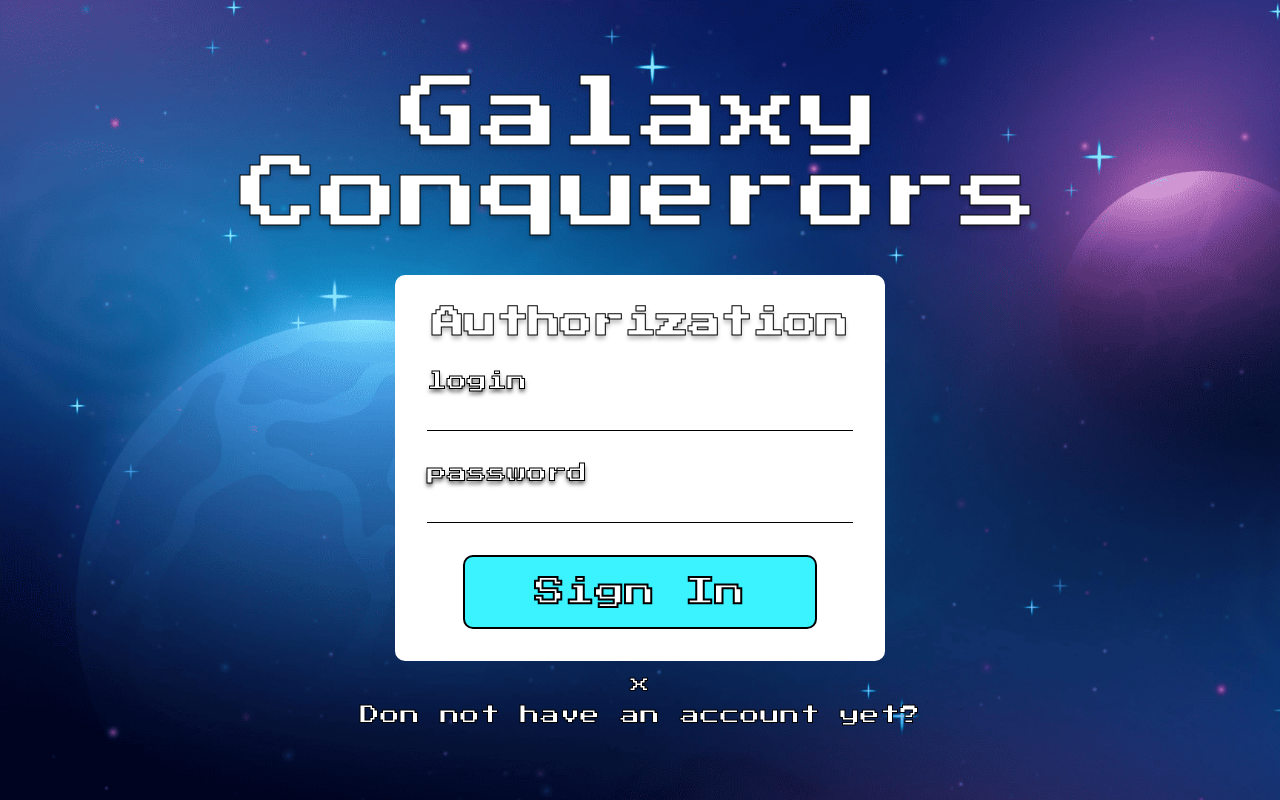
Test: Login Page › should render error text for login & password on submit
The width and height of the screenshot is (1280, 800).
Note: Поле не должно содержать спец символы
In the field with test id "login_input_first-name": (640, 416) top-left (427, 401), bottom-right (853, 431), type "dsad@!"
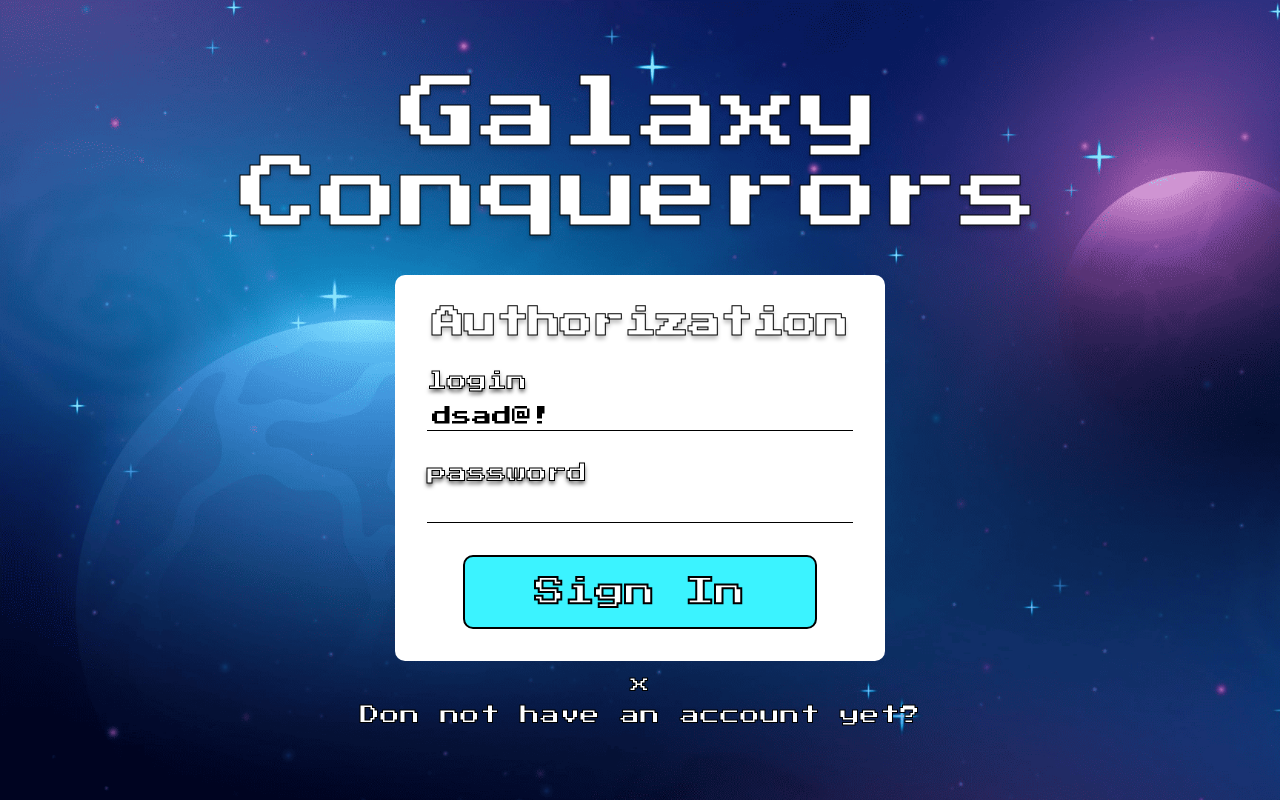
Note: Пользователь вводит значение без чисел. Необходимо хотя бы одно
In the password field with test id "login_input_password": (640, 508) top-left (427, 493), bottom-right (853, 523), type "abcdefgh"
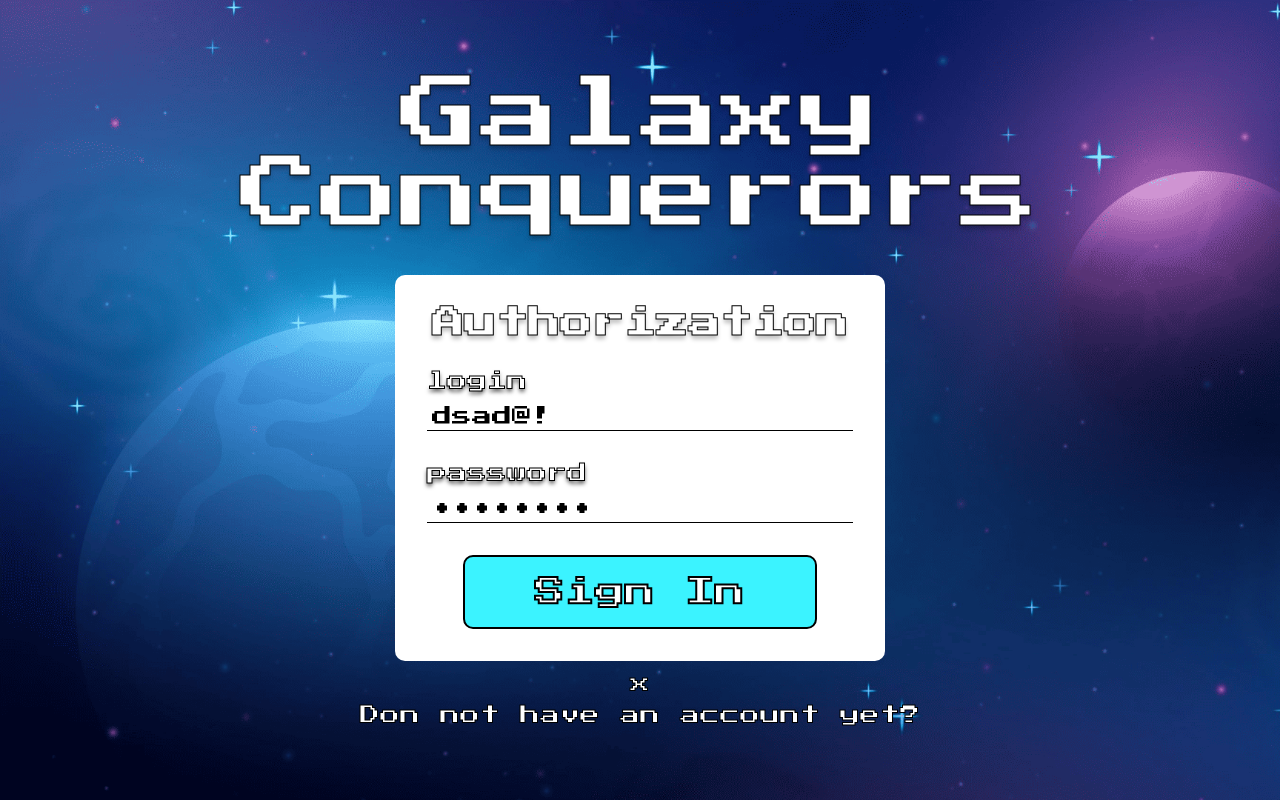
Click the button "Sign In": click(640, 592) top-left (463, 555), bottom-right (817, 629)
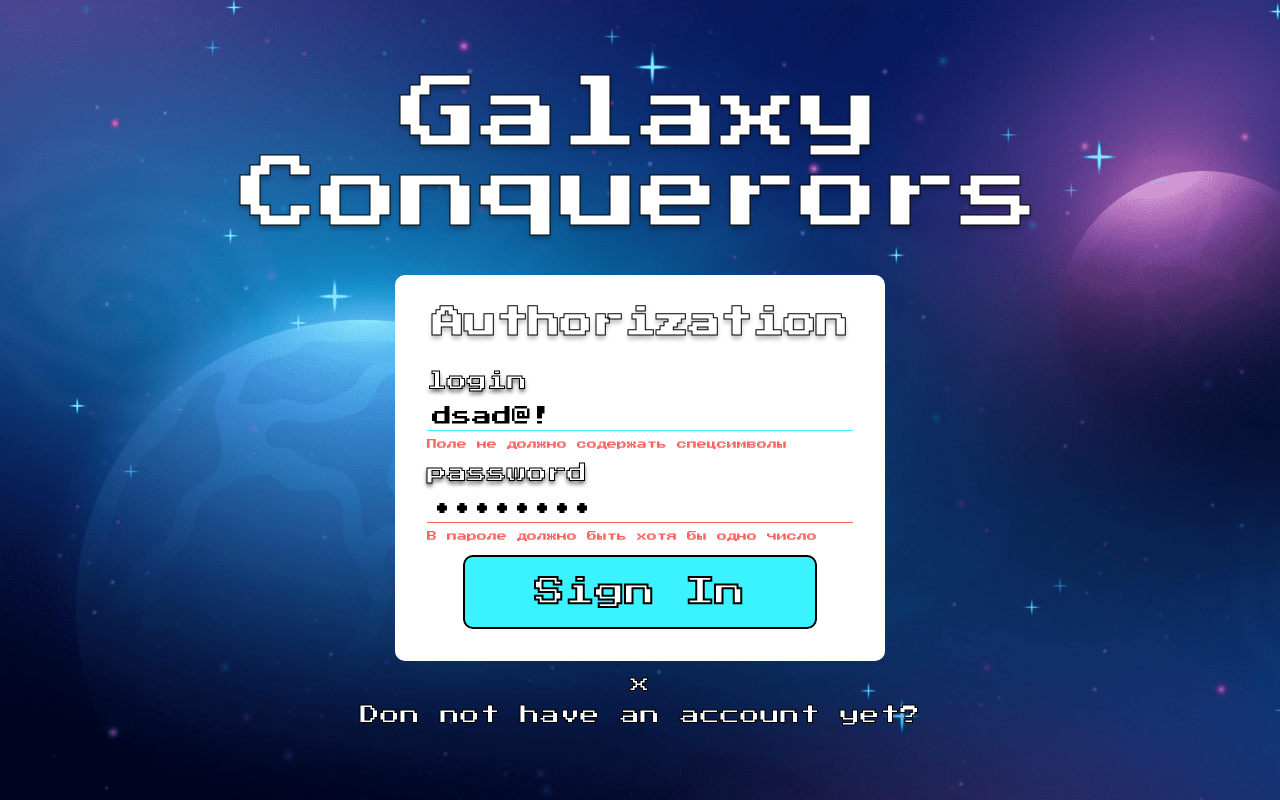
expect the text "Поле не должно содержать спецсимволы" is shown: met, box top-left (427, 439), bottom-right (787, 449)
expect the text "В пароле должно быть хотя бы одно число" is shown: met, box top-left (427, 531), bottom-right (853, 541)
